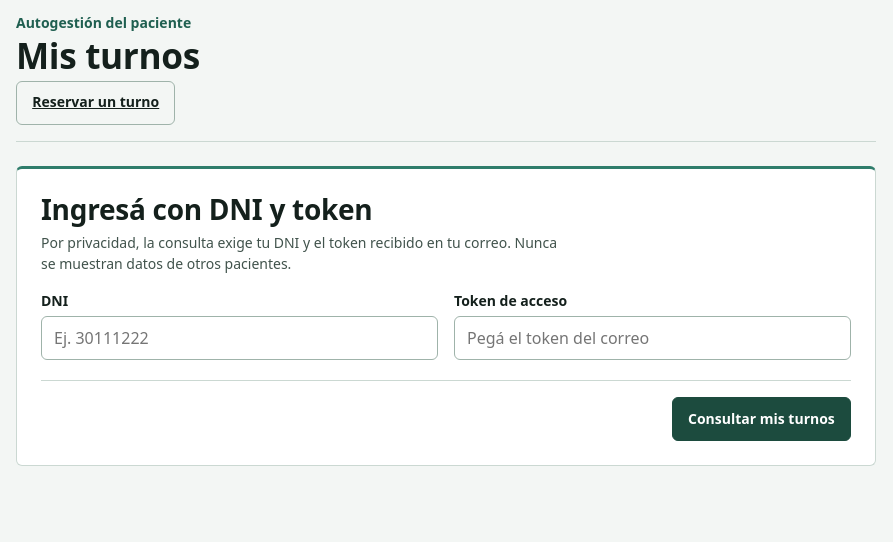
Test: MisTurnosPage › maneja HTTP 429 o turno no cancelable manteniendo entradas y sin filtrar PII
Type "30111222" into the field labelled "DNI" at (240, 338), box x1=41 y1=316 x2=438 y2=360
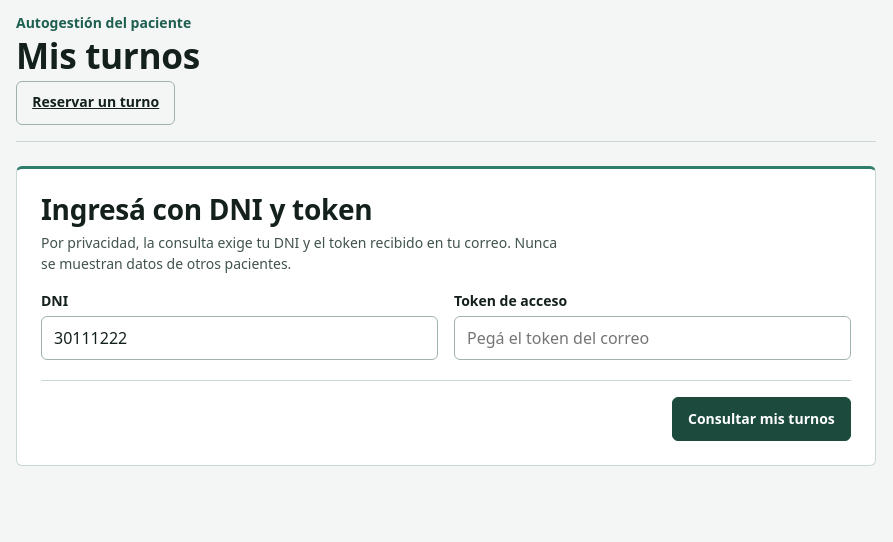
Type "tok_429" into the field labelled "Token de acceso" at (652, 338), box x1=454 y1=316 x2=851 y2=360
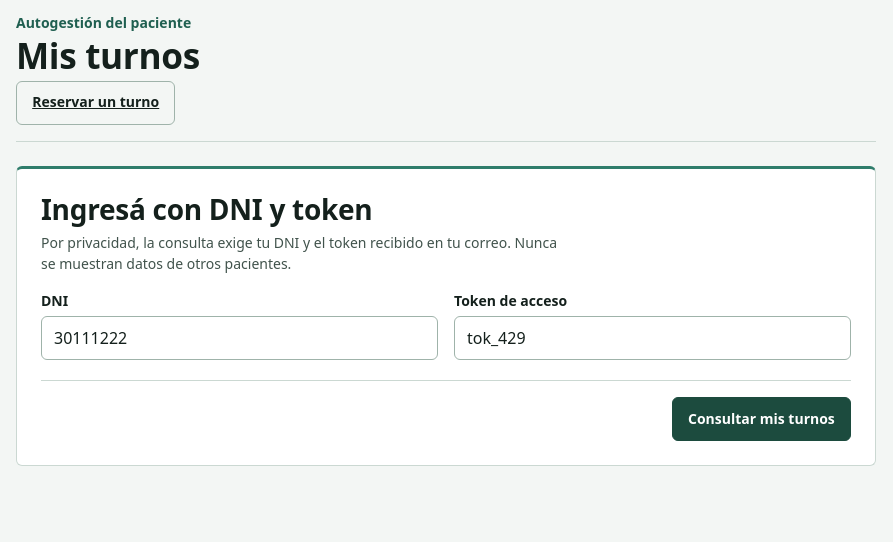
Click the button "Consultar mis turnos" at (761, 419), box x1=672 y1=397 x2=851 y2=441
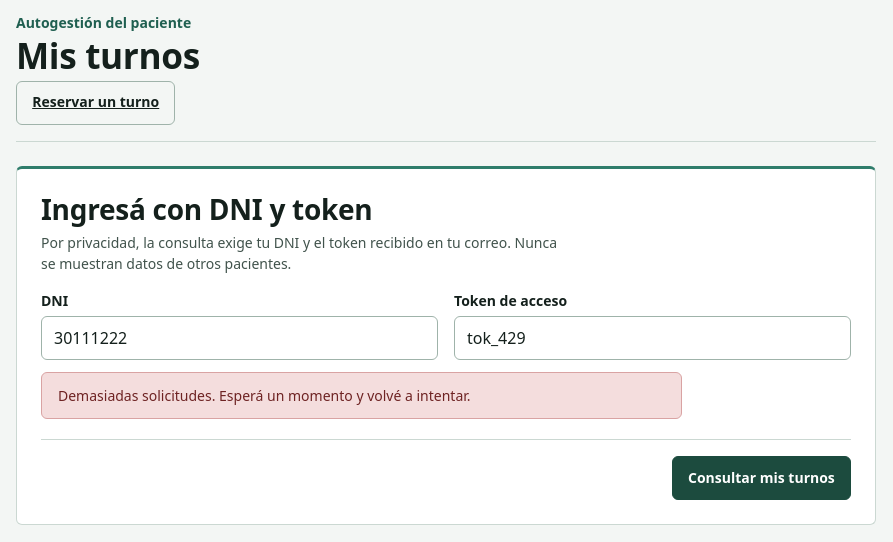
Now the message shows "Demasiadas solicitudes", box x1=58 y1=386 x2=471 y2=405
